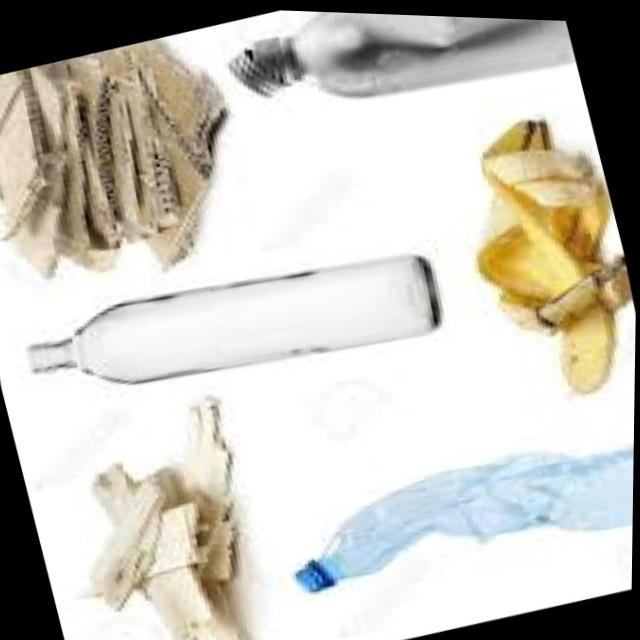clothes: (209, 6, 587, 187)
fabric: (416, 86, 639, 430)
foam box: (3, 195, 465, 457)
leaf: (265, 373, 636, 640), (13, 375, 299, 640)
trash: (0, 5, 319, 334)
